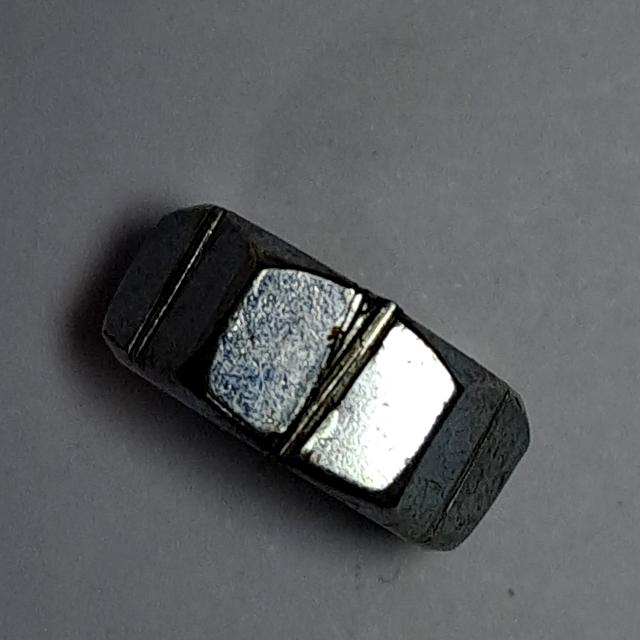Side_Scratches: (85, 194, 547, 564)
